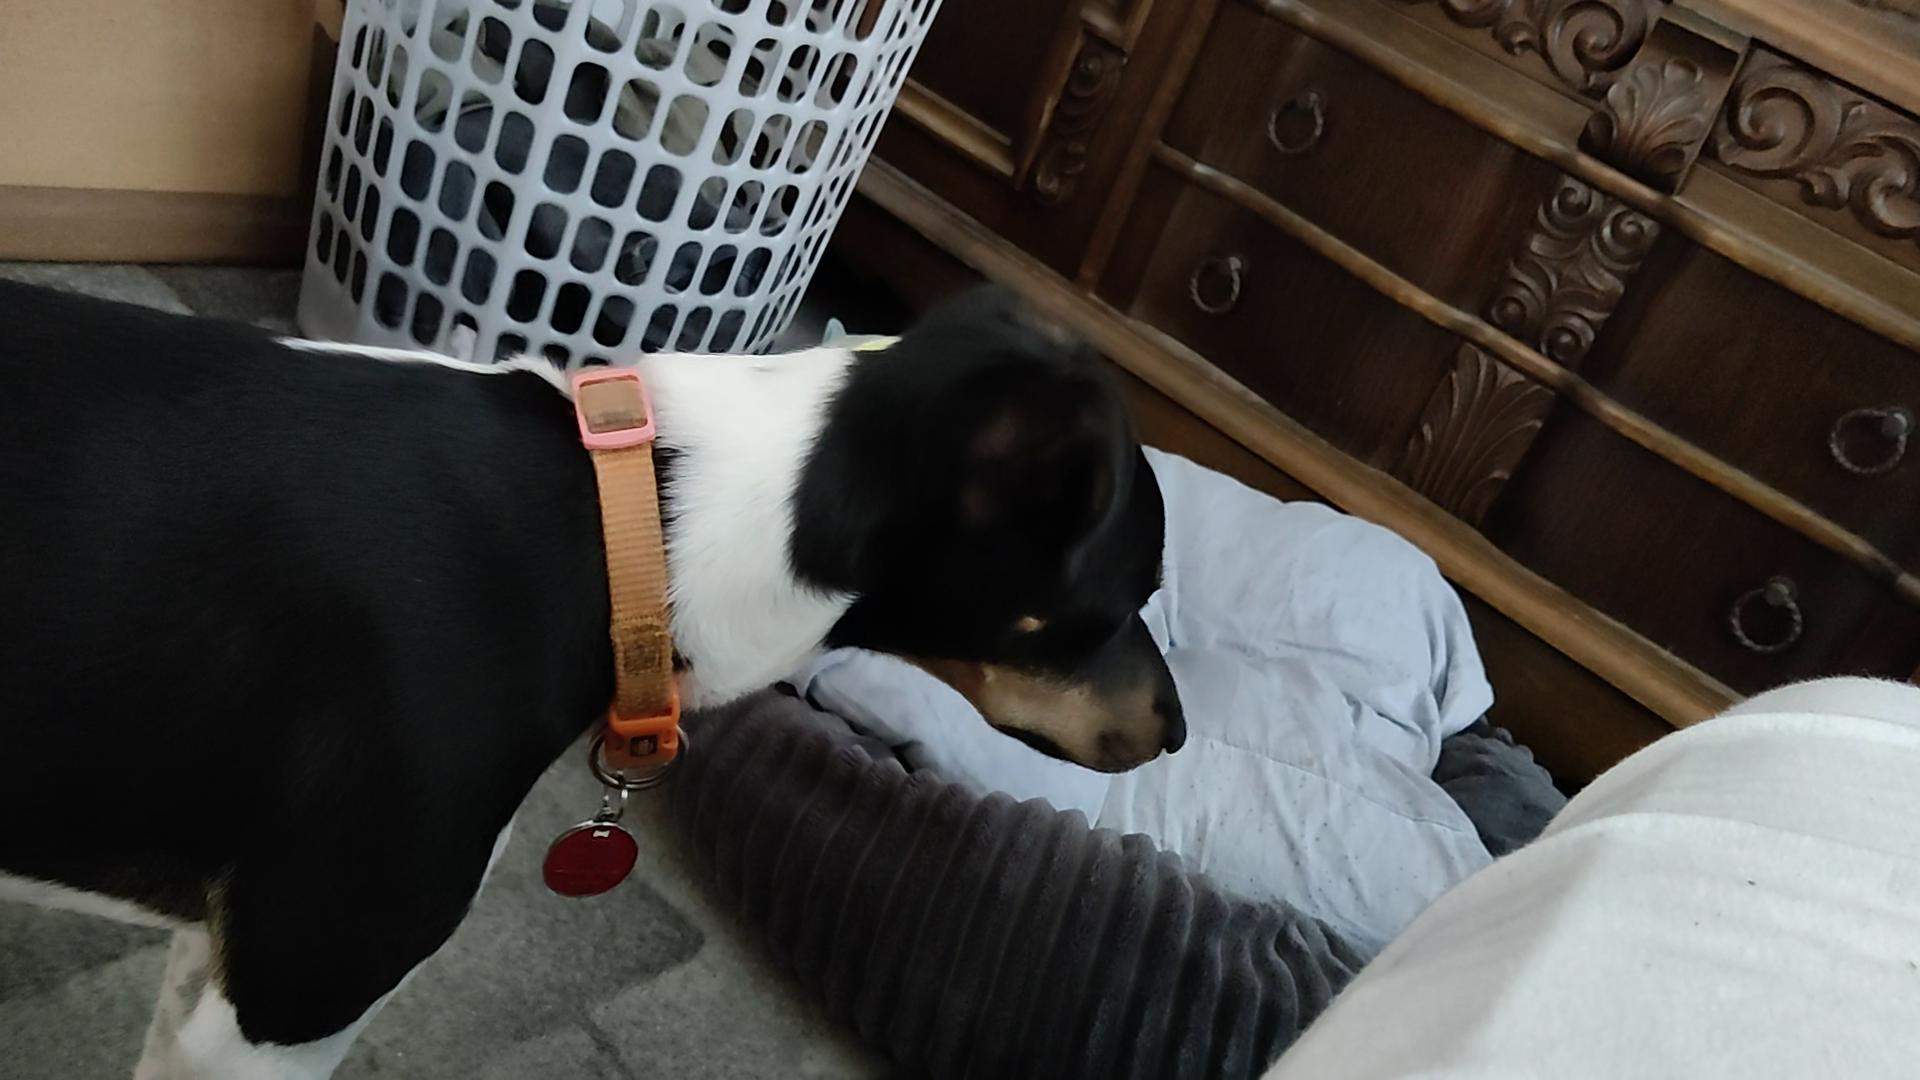Dog: (0, 262, 1220, 1079)
